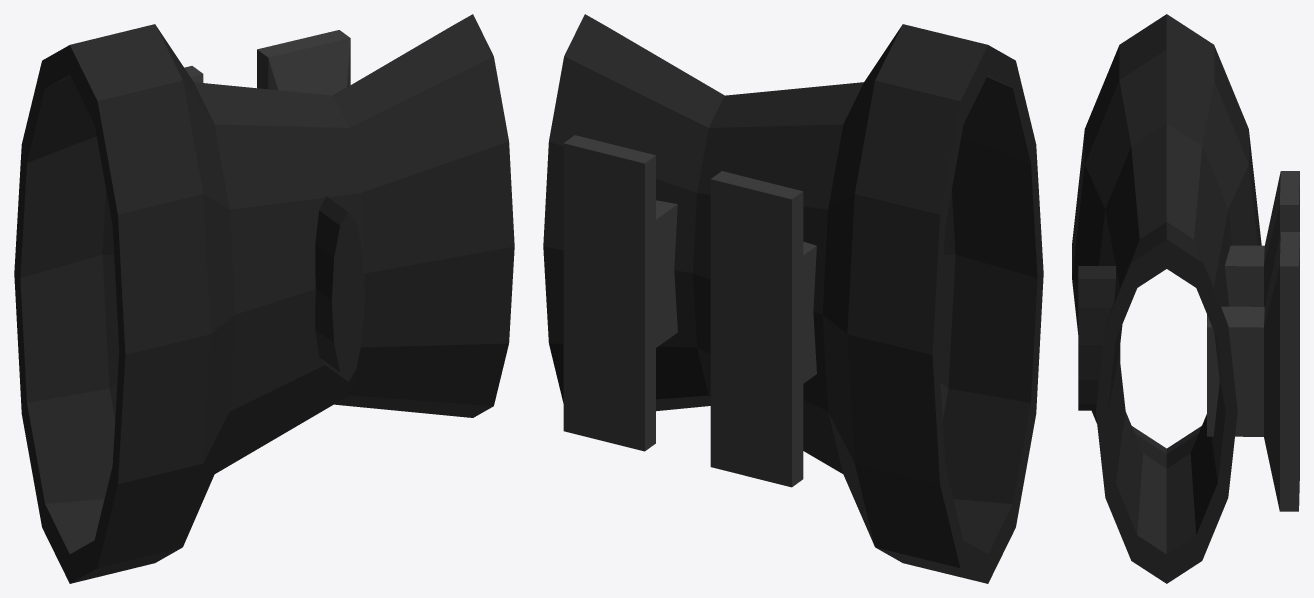
Rendered from sniper_scope_authored.obj.
3 views of the same model, side by side, from view 1: azimuth 30°, elevation 25°; view 2: azimuth 150°, elevation 25°; view 3: azimuth 270°, elevation 25° (orthographic). The views are drawn at different scales.
Parts seen in each view (by area): view 1: Scope; view 2: Scope; view 3: Scope.
Part boxes in pixels (x1,y1,x2,y2): Scope: (14, 14, 514, 583); Scope: (543, 14, 1043, 583); Scope: (1072, 14, 1299, 583).
Bounding box in the file's own units: 2.34 × 2.99 × 1.34.
1 material, 1 textured.
